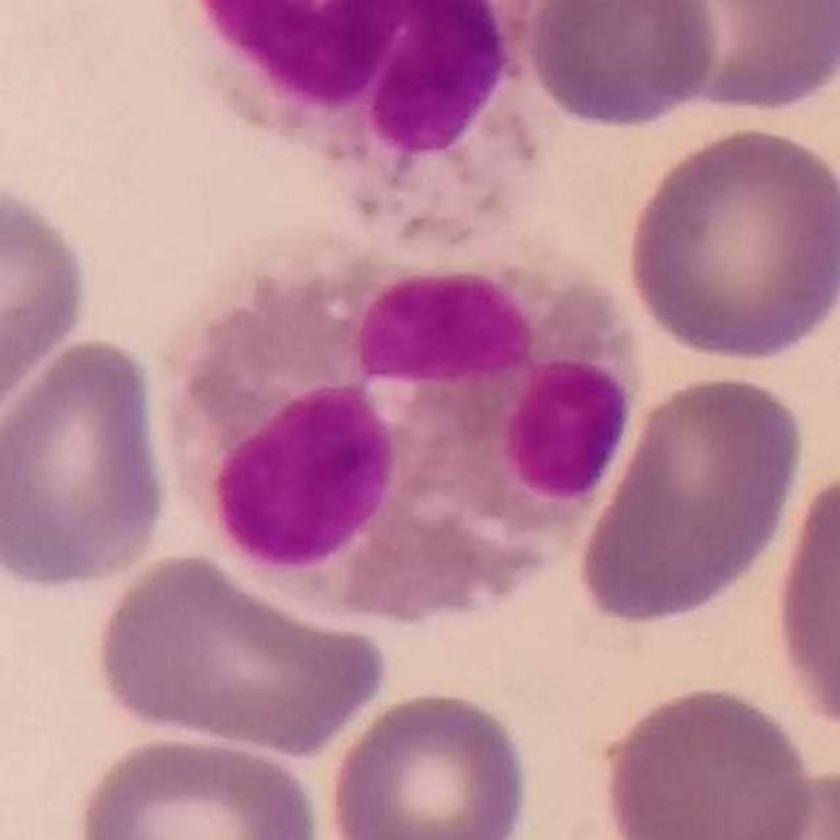eosinophil: (163, 228, 659, 622)
